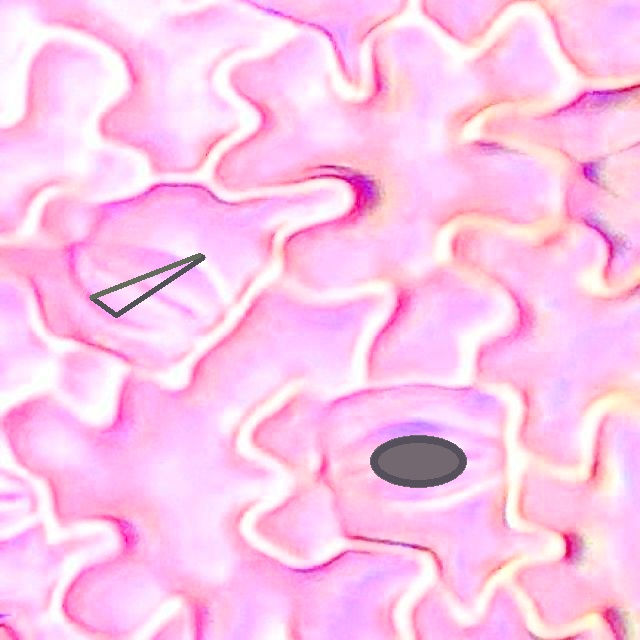open: (89, 253, 205, 317), (370, 435, 467, 487)
